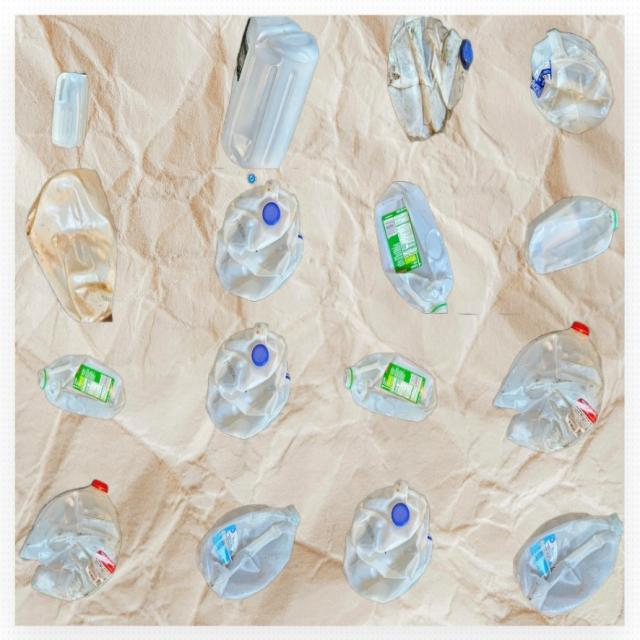milk-jug: (489, 319, 603, 461), (28, 168, 129, 325), (232, 18, 322, 172), (21, 473, 123, 602), (369, 177, 459, 321), (388, 16, 479, 140), (529, 27, 613, 154), (211, 184, 305, 297), (207, 321, 290, 441), (345, 347, 441, 434), (524, 187, 618, 275), (36, 354, 126, 422), (46, 70, 95, 153)
